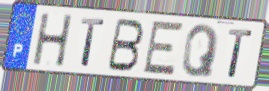B: (105, 17, 146, 74)
E: (141, 19, 186, 78)
H: (31, 13, 75, 69)
Q: (180, 23, 221, 79)
T: (226, 27, 254, 80), (79, 16, 106, 69)
